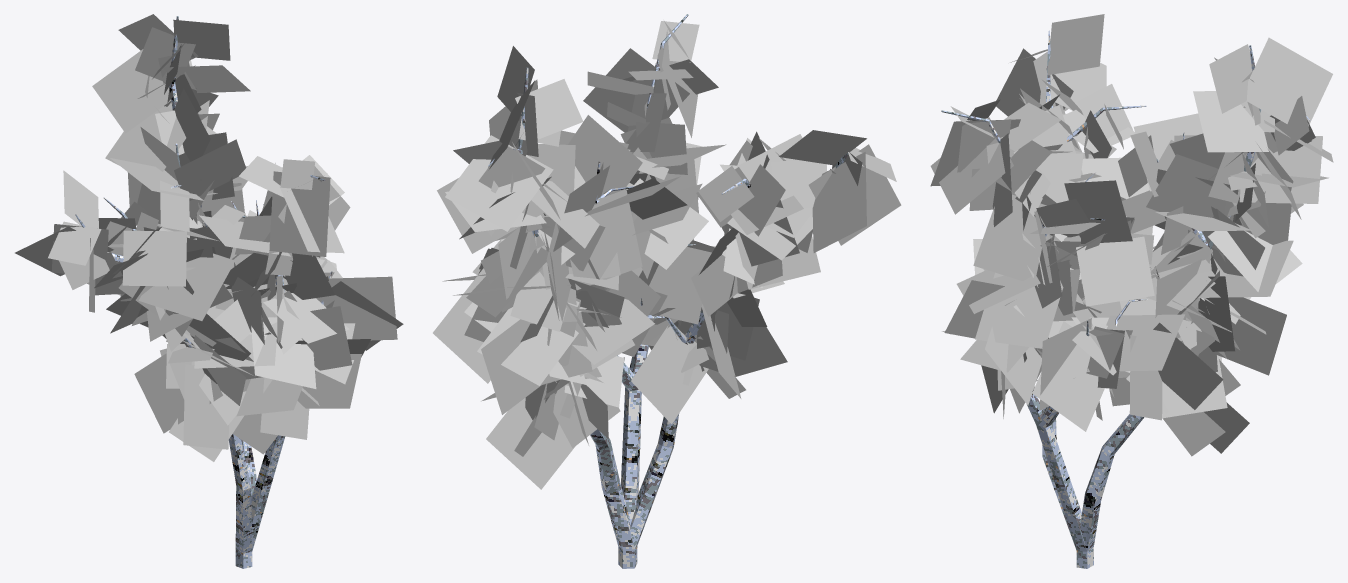
The model's file is birch01.fbx.
3 renders of one model, left to right at view 1: azimuth 30°, elevation 25°; view 2: azimuth 150°, elevation 25°; view 3: azimuth 270°, elevation 25°, orthographic. The views are drawn at different scales.
Visible parts, largest first — view 1: Cylinder.002, Cylinder; view 2: Cylinder.002, Cylinder; view 3: Cylinder.002, Cylinder.
Part boxes in pixels (<box>): Cylinder.002: <box>15,14,403,461</box>; Cylinder: <box>75,16,332,568</box>; Cylinder.002: <box>433,21,901,489</box>; Cylinder: <box>488,14,848,568</box>; Cylinder.002: <box>930,14,1333,456</box>; Cylinder: <box>941,30,1310,568</box>.
Bounding box in the file's own units: 1474 × 1945 × 1352.
